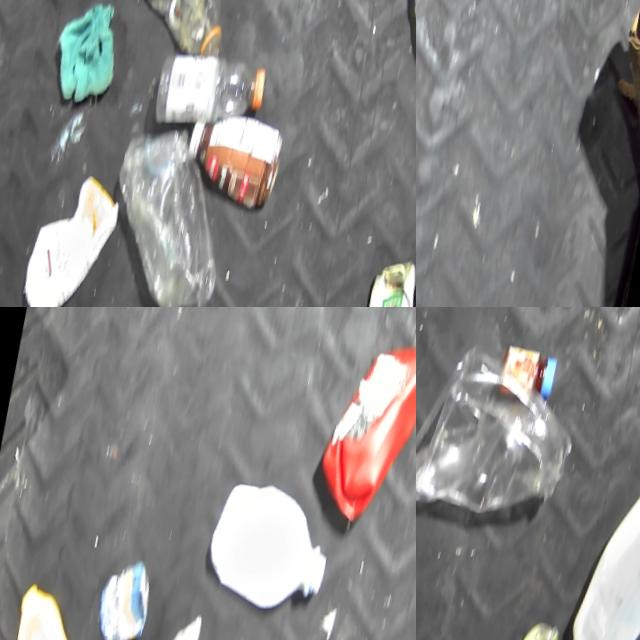can: (86, 553, 155, 640), (357, 259, 416, 307), (501, 619, 565, 640)
milk_jug: (193, 472, 340, 630), (553, 457, 640, 640)
non_white_jug: (303, 324, 416, 543), (0, 576, 87, 640)
plastic_bottle: (146, 45, 271, 148), (126, 0, 238, 60)
